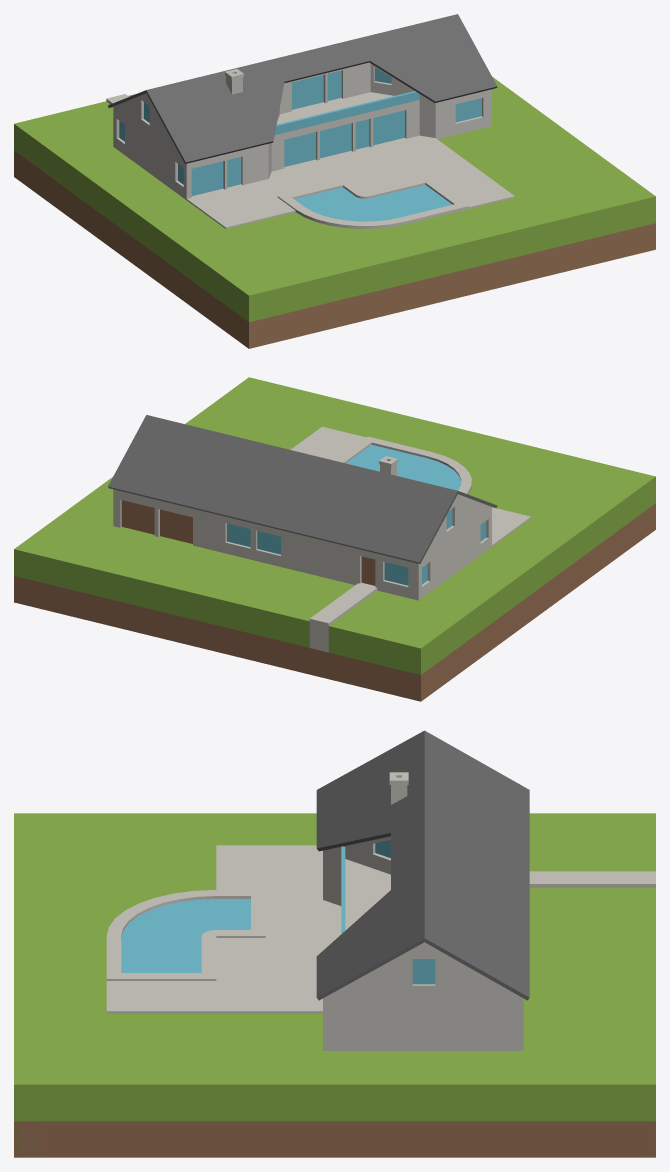
File: building-house8.obj
The picture shows the model from 3 angles, top to bottom: view 1: azimuth 30°, elevation 25°; view 2: azimuth 150°, elevation 25°; view 3: azimuth 270°, elevation 25°; orthographic projection. The views are drawn at different scales.
Visible parts, largest first — view 1: house-luxurious_Cube.010; view 2: house-luxurious_Cube.010; view 3: house-luxurious_Cube.010.
Part boxes in pixels (x1,y1,x2,y2): house-luxurious_Cube.010: (14,14,655,348); house-luxurious_Cube.010: (14,377,655,701); house-luxurious_Cube.010: (14,730,655,1157).
Bounding box in the file's own units: 16 × 5.34 × 16.
